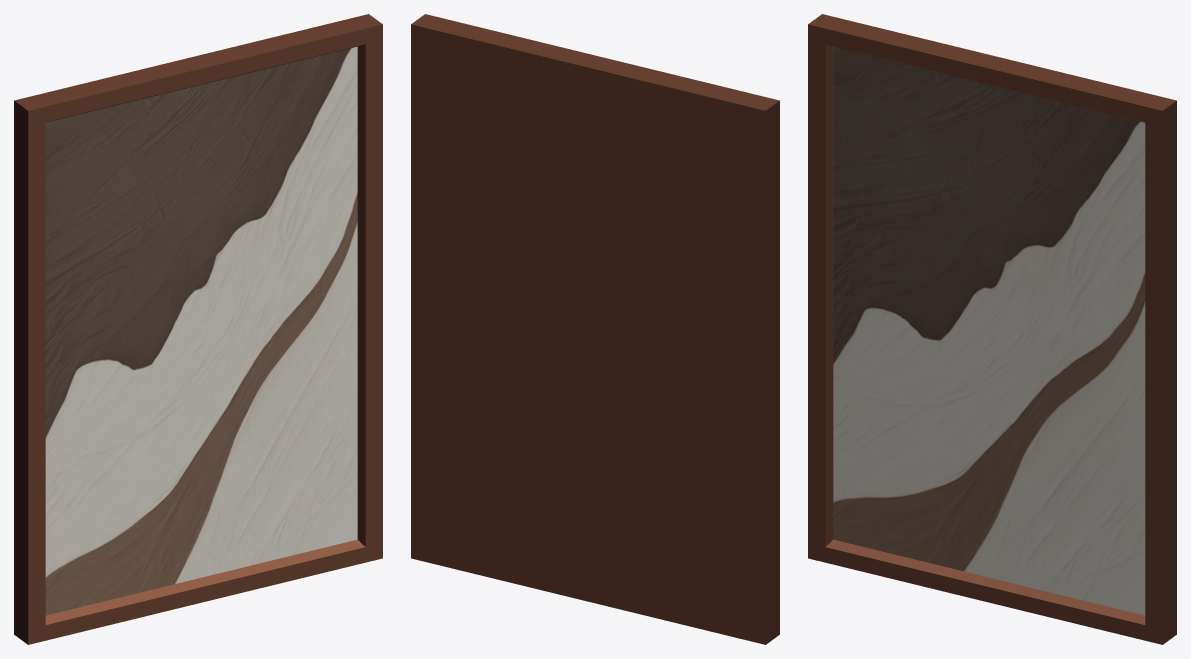
Rendered from SM_GameArea_DecorativePicture_02.fbx.
3 views of the same model, side by side, from view 1: azimuth 30°, elevation 25°; view 2: azimuth 150°, elevation 25°; view 3: azimuth 330°, elevation 25° (orthographic).
Visible parts, largest first — view 1: SM_GameArea_DecorativePicture_02; view 2: SM_GameArea_DecorativePicture_02; view 3: SM_GameArea_DecorativePicture_02.
Part boxes in pixels (left/top/right/bottom): SM_GameArea_DecorativePicture_02: left=14, top=14, right=382, bottom=644; SM_GameArea_DecorativePicture_02: left=411, top=14, right=779, bottom=644; SM_GameArea_DecorativePicture_02: left=808, top=14, right=1176, bottom=644.
Bounding box in the file's own units: 3.47 × 5 × 0.2404.
2 materials, 2 textured.
